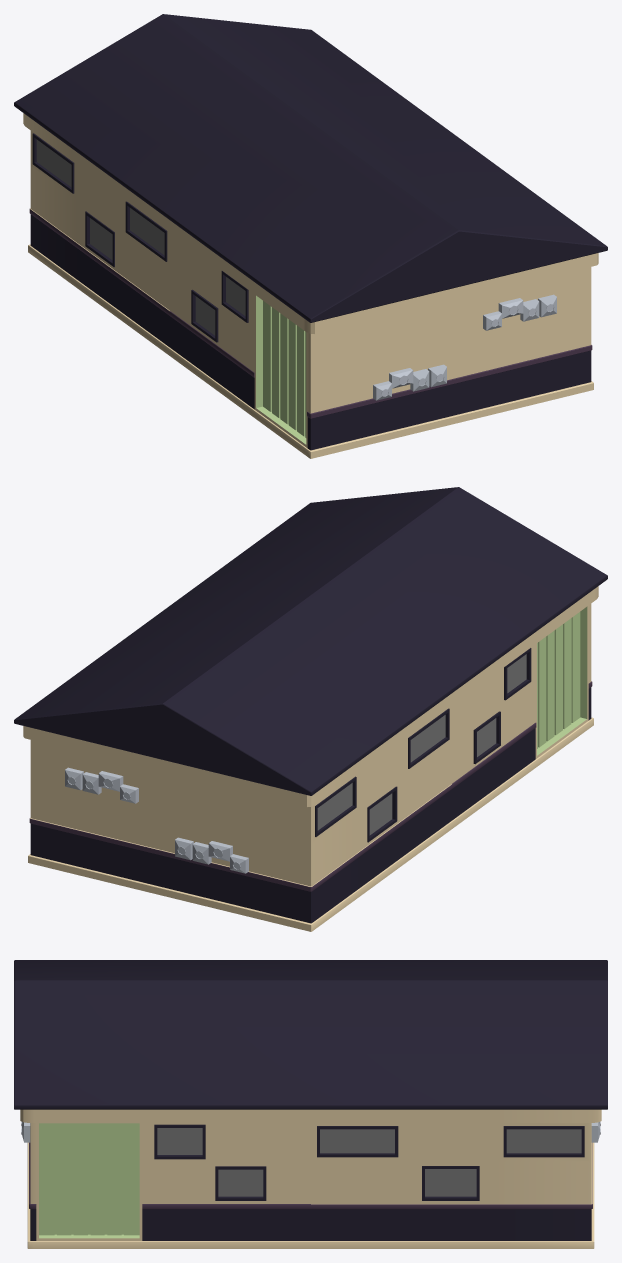
Rendered from industrial-buildings-building-A.fbx.
3 views of the same model, one above another, from view 1: azimuth 30°, elevation 25°; view 2: azimuth 150°, elevation 25°; view 3: azimuth 270°, elevation 25° (orthographic).
Parts seen in each view (by area): view 1: industrial-buildings-building-A; view 2: industrial-buildings-building-A; view 3: industrial-buildings-building-A.
Boxes of the visible parts, x1,y1,x2,y2 form: industrial-buildings-building-A: (14, 14, 607, 458); industrial-buildings-building-A: (14, 487, 607, 931); industrial-buildings-building-A: (14, 960, 607, 1248).
Size of the model in its own units: 15.88 by 10.14 by 27.41.
